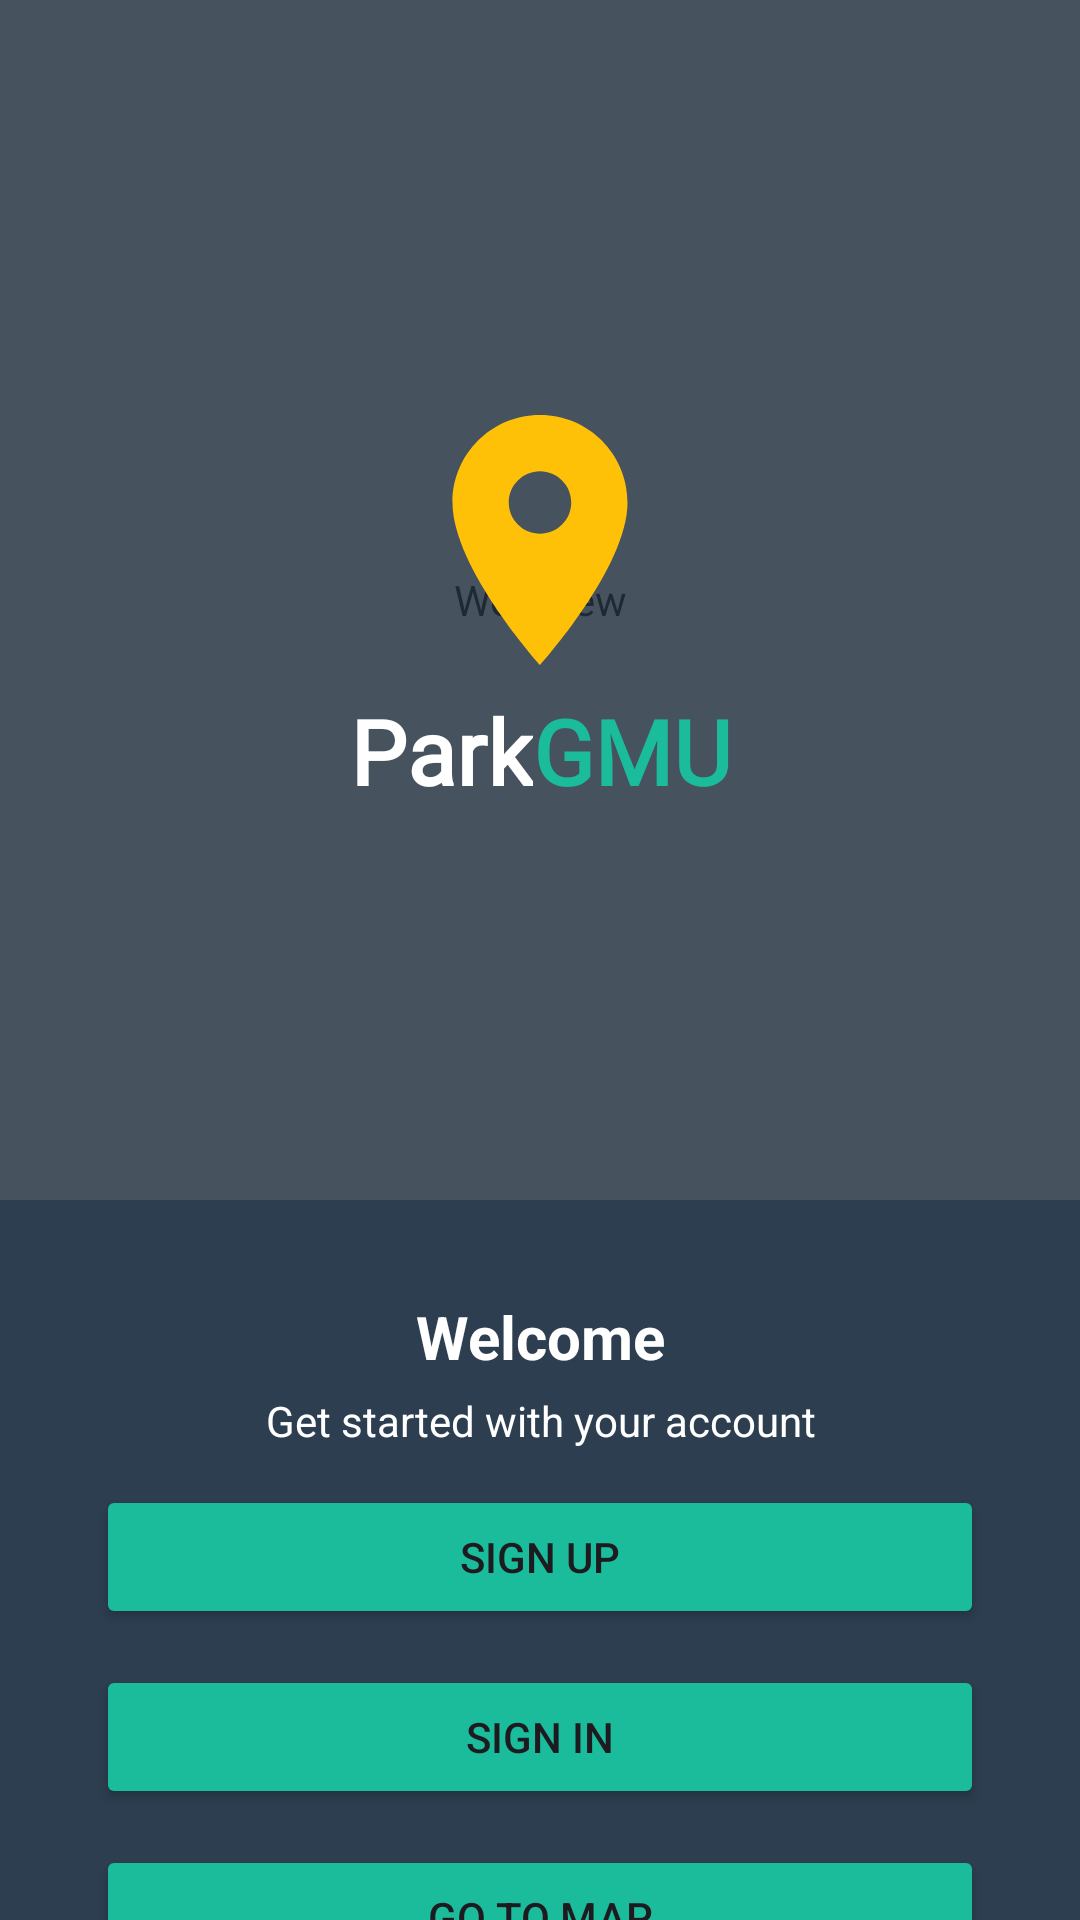

Named icons in this screenshot (1080px×1920px) and their bounding boxes, Rect(x1, y1, x2, y2):
location: Rect(452, 415, 628, 665)
